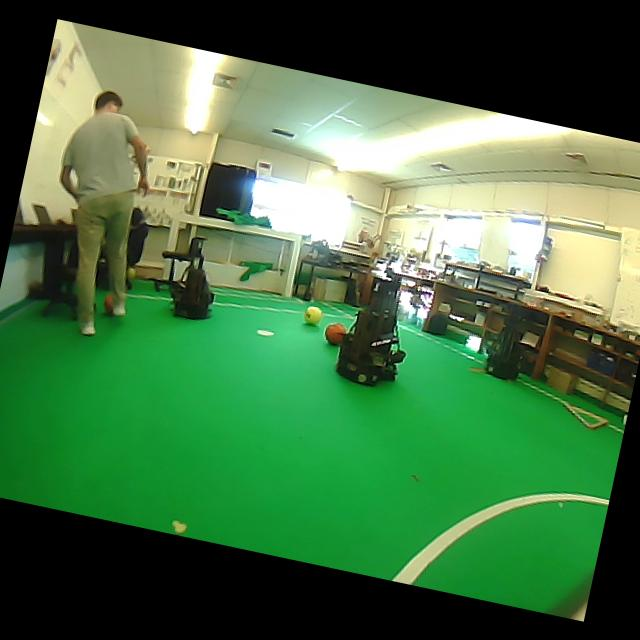ball: (324, 322, 345, 345), (304, 306, 321, 324), (126, 267, 136, 281)
goal: (282, 234, 301, 297)
robot: (335, 279, 405, 385), (170, 237, 212, 318), (486, 305, 522, 380)
